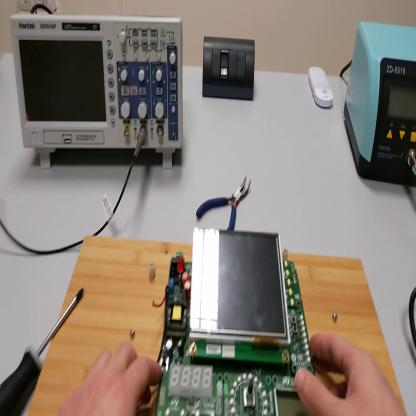hand: (295, 334, 406, 416), (62, 340, 162, 416)
low voltage board: (138, 224, 317, 416)
oscilloscope: (11, 15, 184, 171)
pliers: (197, 177, 252, 231)
screwdriver-: (2, 288, 86, 415)
welder station: (344, 19, 416, 188)
working area: (28, 236, 408, 416)
